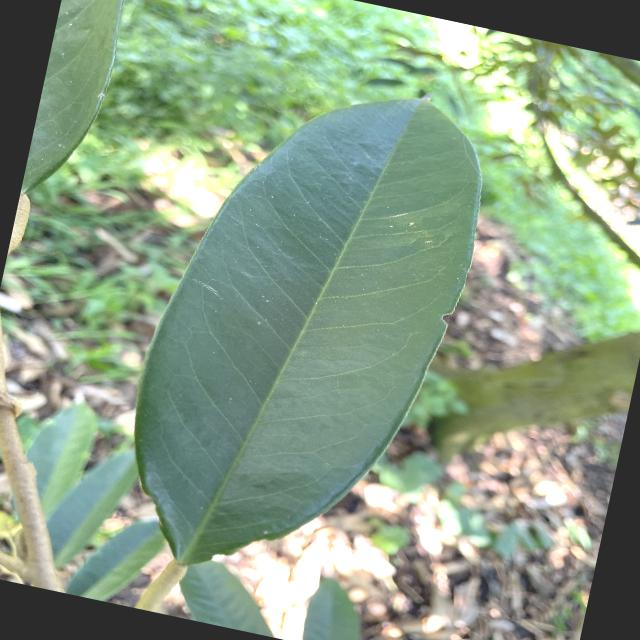No Disease: (90, 37, 512, 618)
